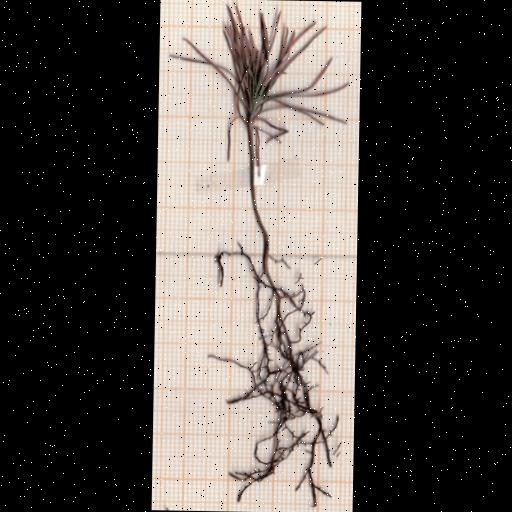flowerCedr: (170, 3, 347, 139)
rootCedr: (211, 247, 340, 504)
stemCedr: (245, 125, 269, 263)
